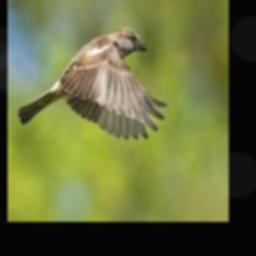Sparrow: (17, 27, 167, 138)
